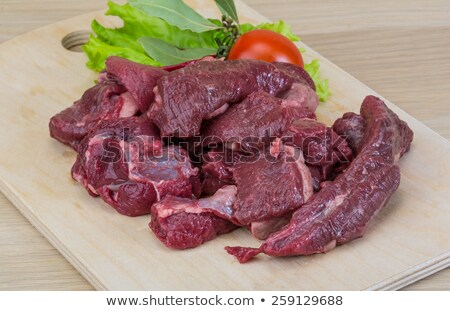ground_beef: (44, 69, 379, 230)
